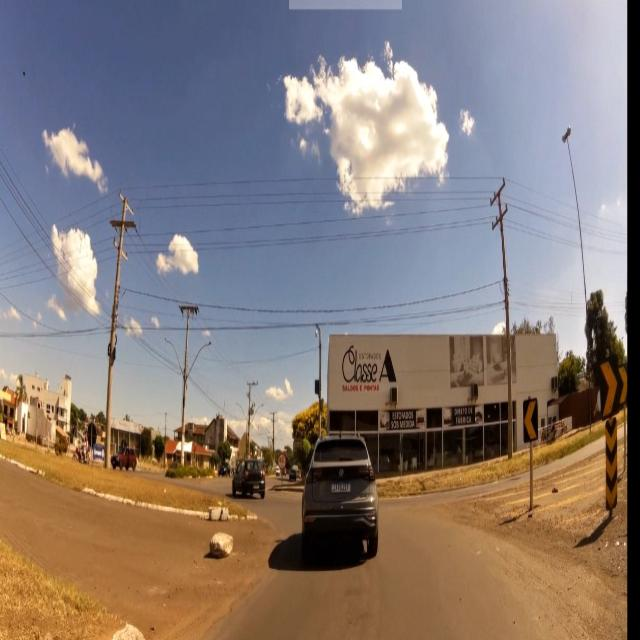MP: (606, 417, 618, 512)
